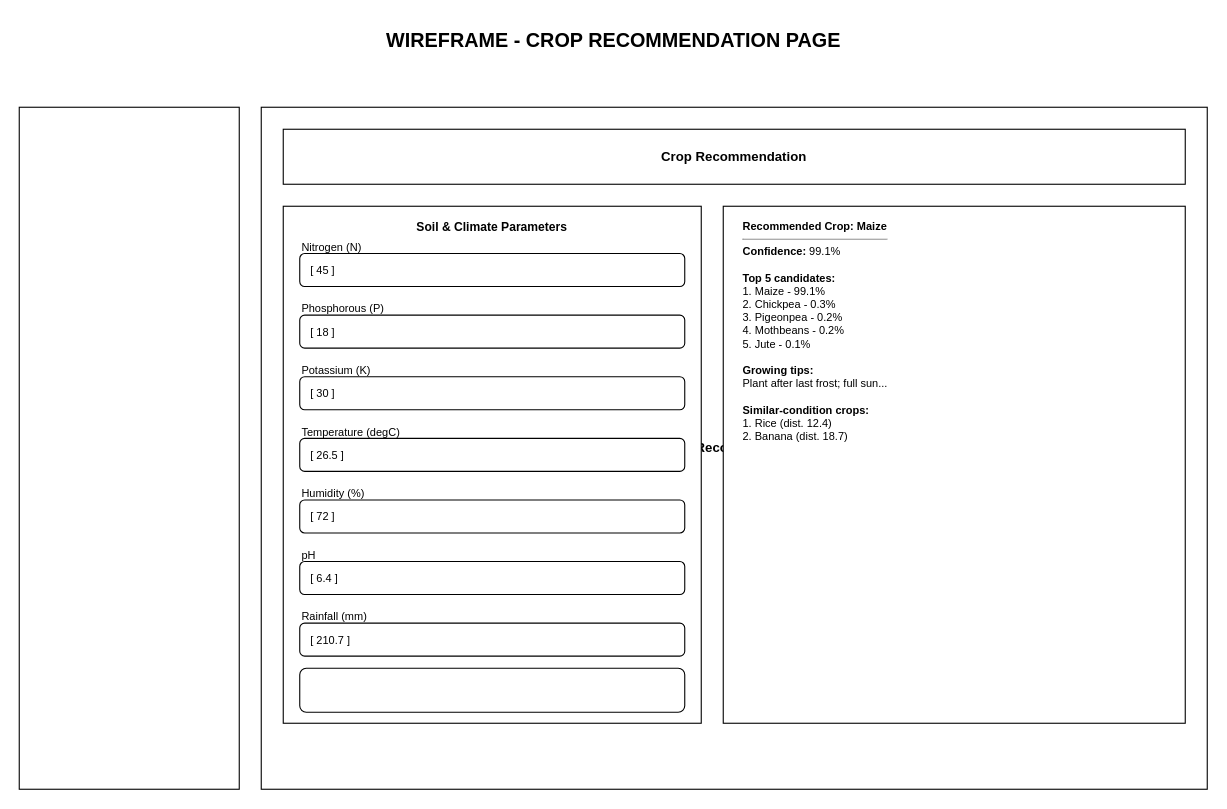
This 1227x809 diagram has some shape labels left out. Here are the shapes that lost their labels. From the top down, the centre of each, then its label:
pixel 128 447: NAV Dashboard Records Crop Recommendation Pest Risk Disease Shop Profile Logout
pixel 492 689: Predict Crop
